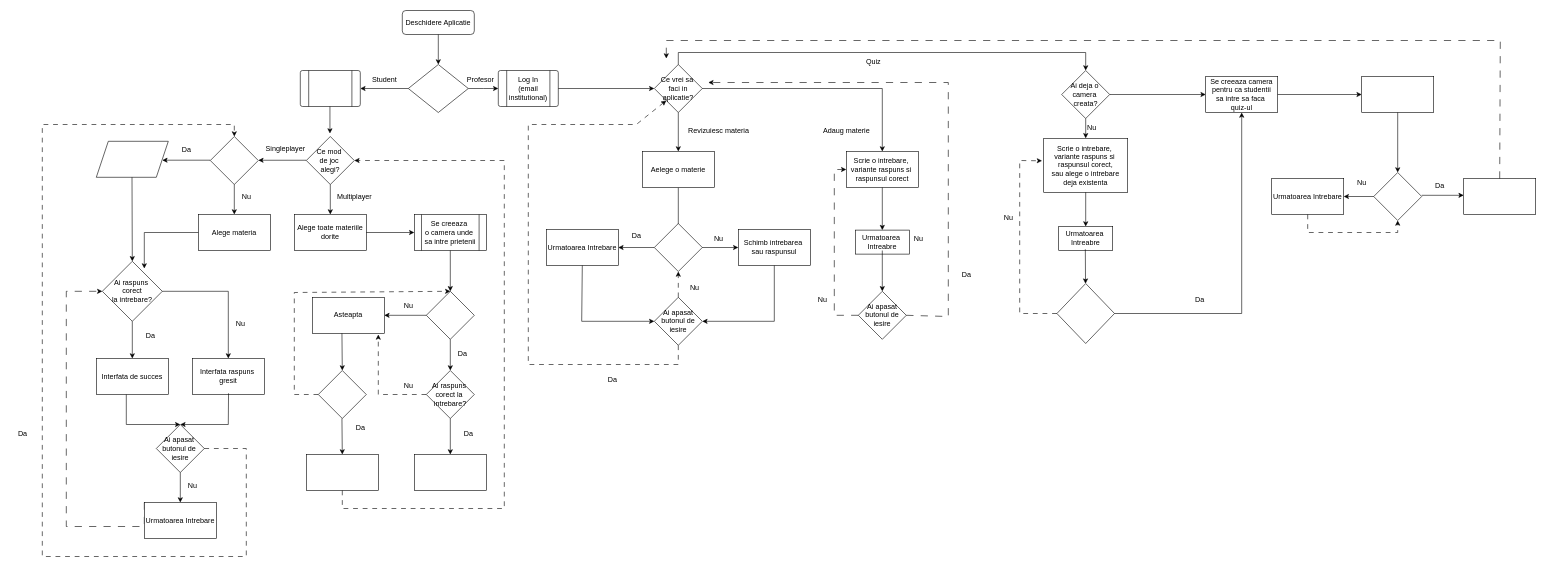
Image size: 1546x572. Some labels were removed from this diagram. The centre of each missing label's shape, as x and y in pixels:
A fost capturata facultatea?: point 342,394
Ai apsat pe butonul termina quiz-ul: point 1085,313
Castigi teren: point 450,472
Ce fel de user esti?: point 438,88
Este corecta intrebarea?: point 678,247
Este randul tau?: point 450,315
Incepe Quiz-ul: point 1397,94
Interfata de final: point 342,472
Introdu materiale: point 132,159
Leaderboards: point 1499,196
Log In (email personal): point 330,88
S-a terminat quiz-ul?: point 1397,196
Vrei sa joci cu materialele proprii?: point 234,160
